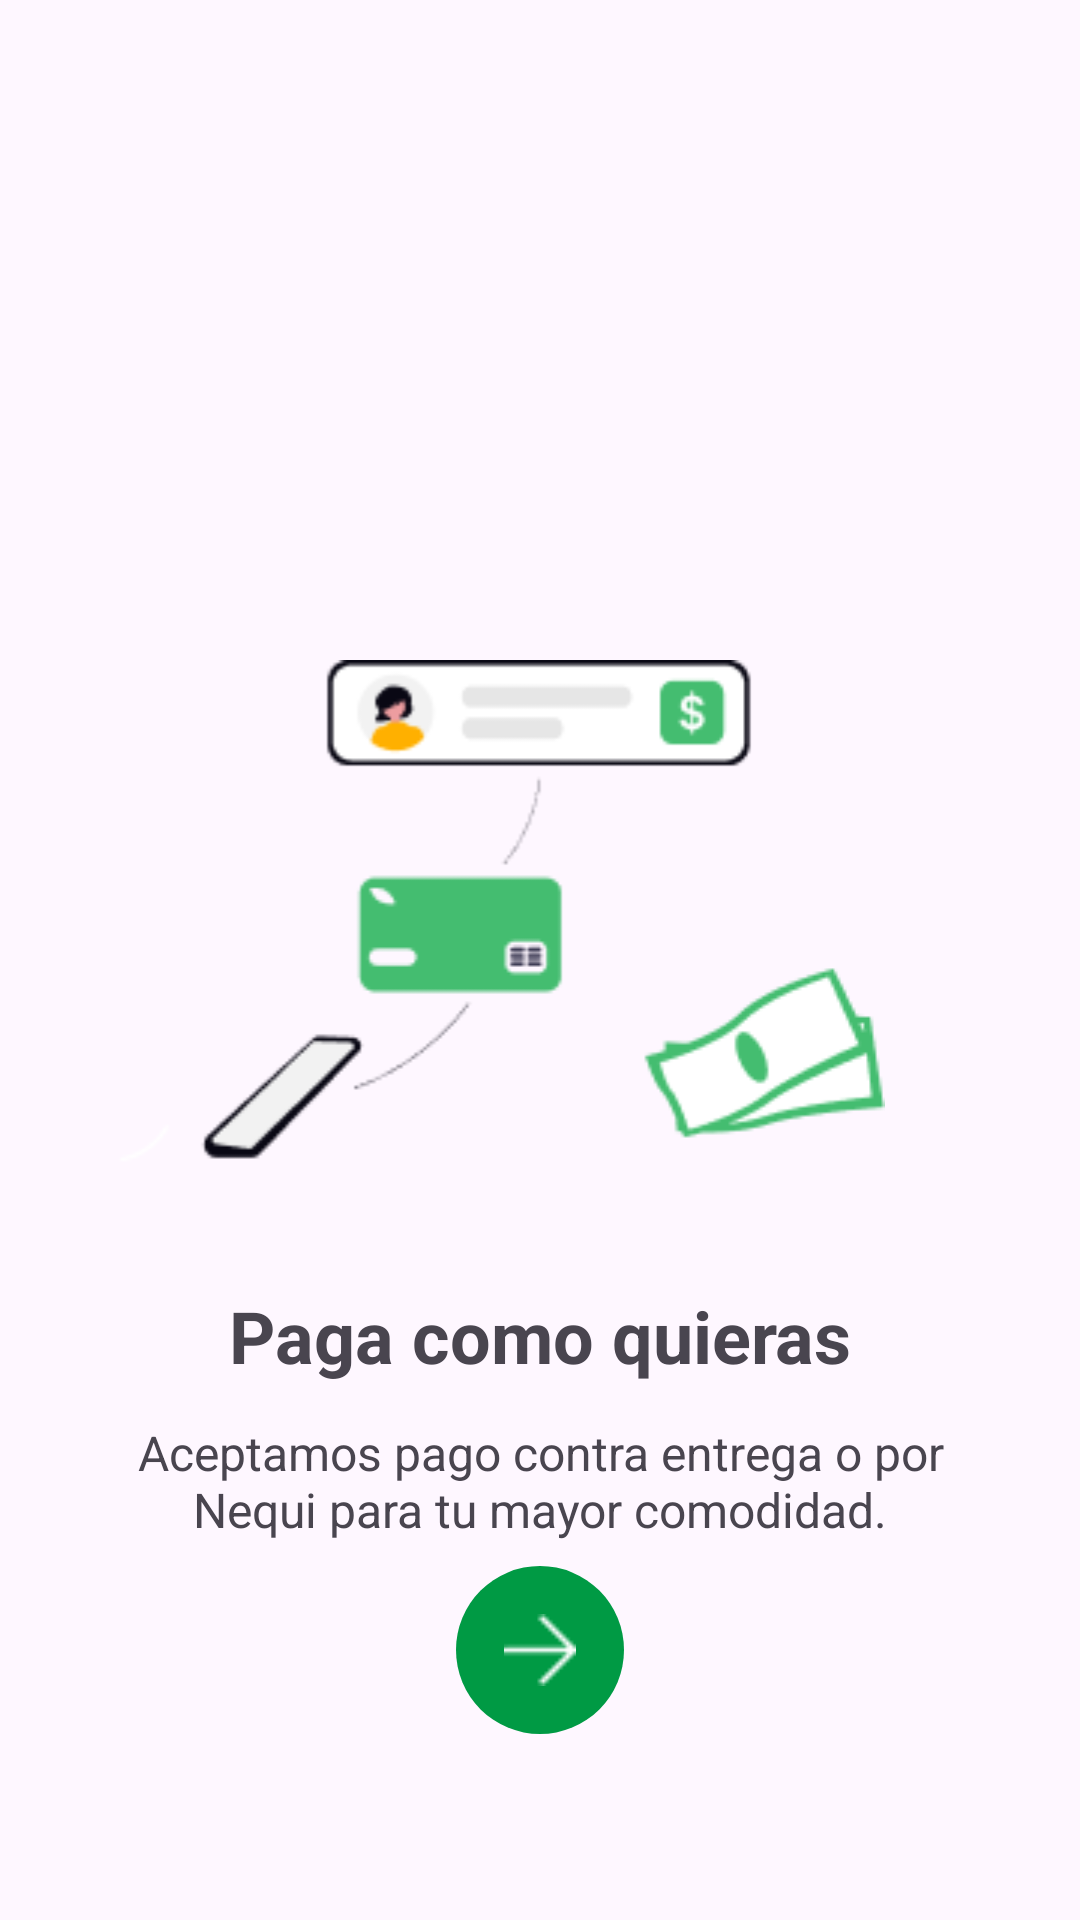

Named icons in this screenshot (1080×1920) and their centers, (x=x, y=y):
arrow forward: (x=540, y=1650)
